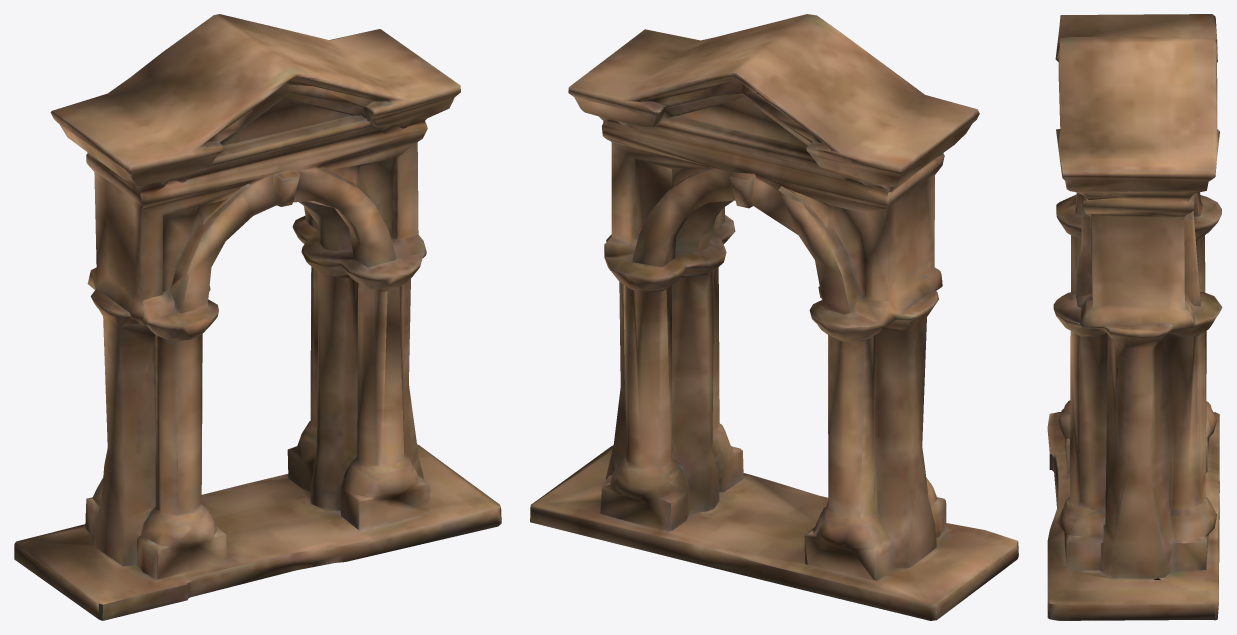
Rendered from ornate-sandstone-street-arch-v002.glb.
3 renders of one model, left to right at view 1: azimuth 30°, elevation 25°; view 2: azimuth 150°, elevation 25°; view 3: azimuth 270°, elevation 25°, orthographic. The views are drawn at different scales.
Visible parts, largest first — view 1: ornate-sandstone-street-arch; view 2: ornate-sandstone-street-arch; view 3: ornate-sandstone-street-arch.
Part boxes in pixels (x1,y1,x2,y2): ornate-sandstone-street-arch: (14, 14, 501, 620); ornate-sandstone-street-arch: (530, 14, 1018, 620); ornate-sandstone-street-arch: (1047, 14, 1222, 620).
Size of the model in its own units: 3.08 by 3.62 by 1.18.
1 material, 1 textured.
